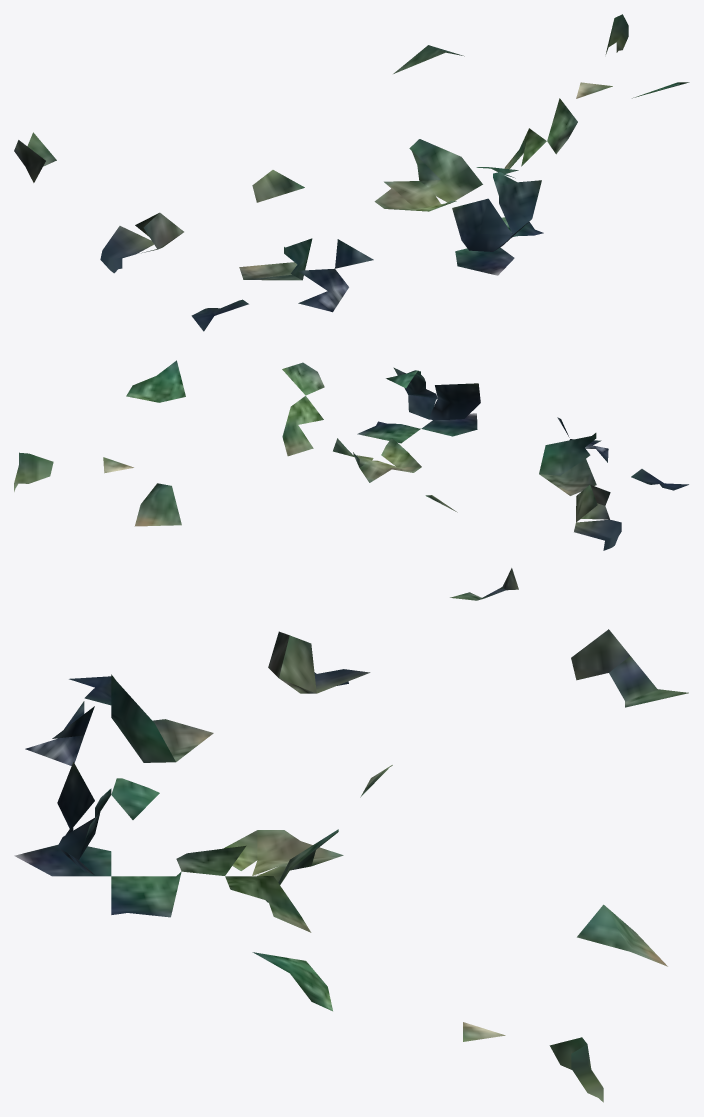
The picture shows the model from 3 angles, top to bottom: view 1: azimuth 30°, elevation 25°; view 2: azimuth 150°, elevation 25°; view 3: azimuth 270°, elevation 25°; orthographic projection. The views are drawn at different scales.
Visible parts, largest first — view 1: 30436272704370436700_1; view 2: 30436272704370436700_1; view 3: 30436272704370436700_1.
Part boxes in pixels (x1,y1,x2,y2): 30436272704370436700_1: (14, 14, 689, 331); 30436272704370436700_1: (14, 360, 688, 600); 30436272704370436700_1: (14, 629, 688, 1102).
Bounding box in the file's own units: 27.31 × 4.16 × 19.28.
Materials: 1 (1 with a texture image).
